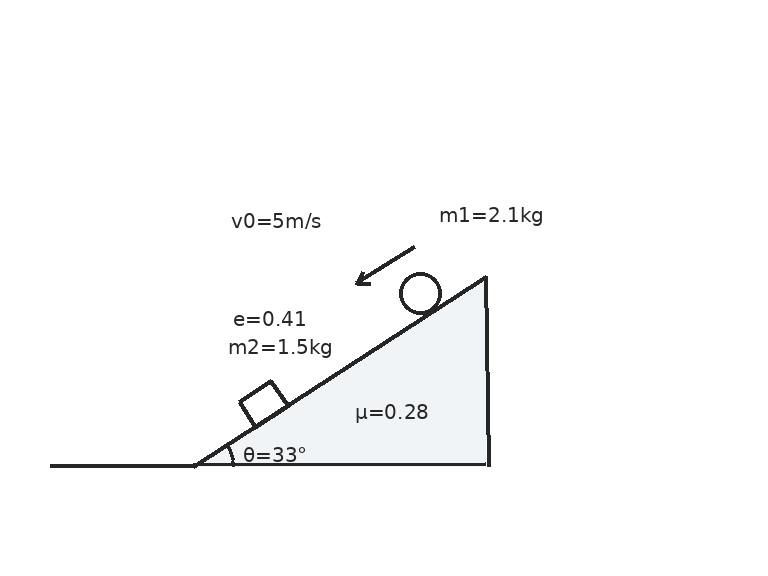ball: (397, 270, 443, 316)
block: (237, 378, 289, 428)
ramp: (191, 274, 488, 468)
